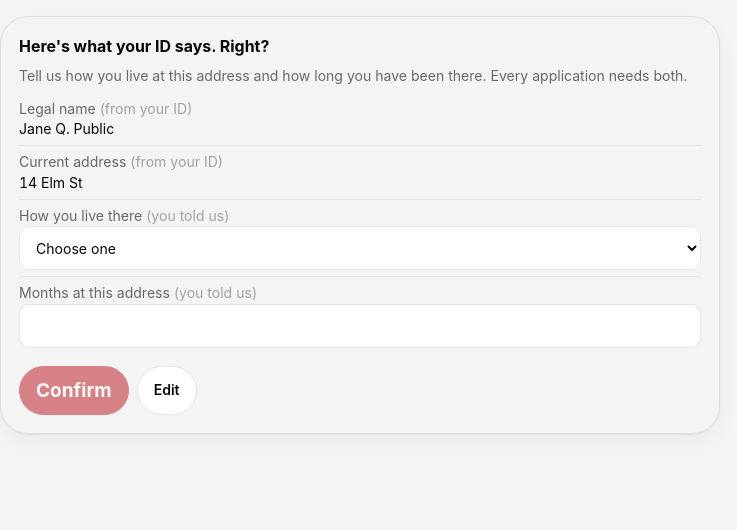
32.3 E5/C1 — ConfirmCard provenance (T5, T29) › 32.3 E5 / T5: the identity card asks how the borrower lives there (a select: I own it · I rent · Living rent-free) and the months at the address without an Edit
Later steps or results of the test are not shown.
expect the text with test id "confirm-helper" shows "Tell us how you live at this address and how long you have been there. Every application needs both.": met, box x1=19 y1=67 x2=687 y2=84
expect the button "Confirm" is disabled: met, box x1=19 y1=366 x2=129 y2=415
Select "I rent" in the dropdown named "How you live there" at [360, 248], box x1=19 y1=226 x2=701 y2=270
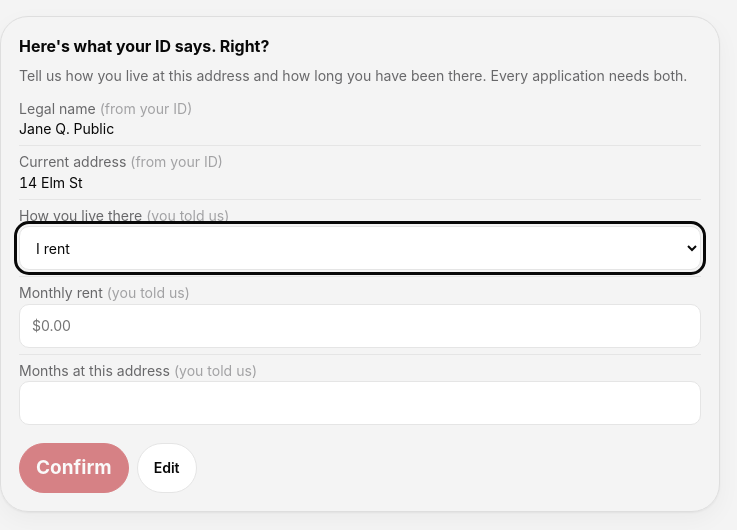
Type "2100" into the field named "Monthly rent" at [360, 326], box x1=19 y1=304 x2=701 y2=348
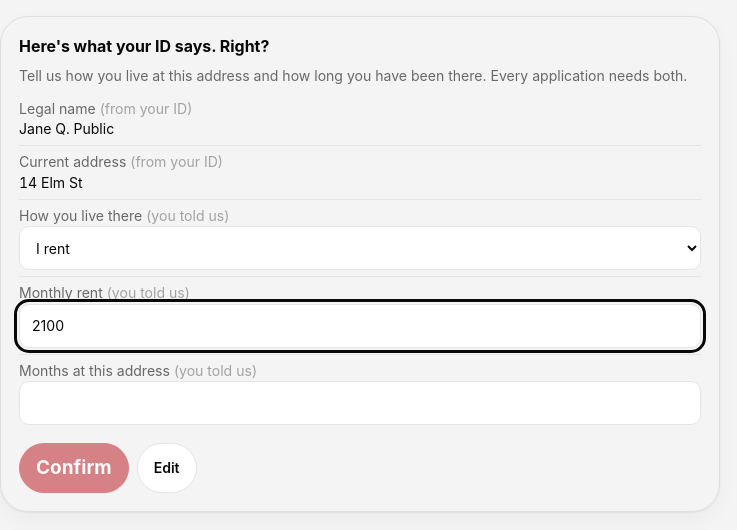
expect the button "Confirm" is disabled: met, box x1=19 y1=443 x2=129 y2=493
Type "14" into the field named "Months at this address" at [360, 403], box x1=19 y1=381 x2=701 y2=425
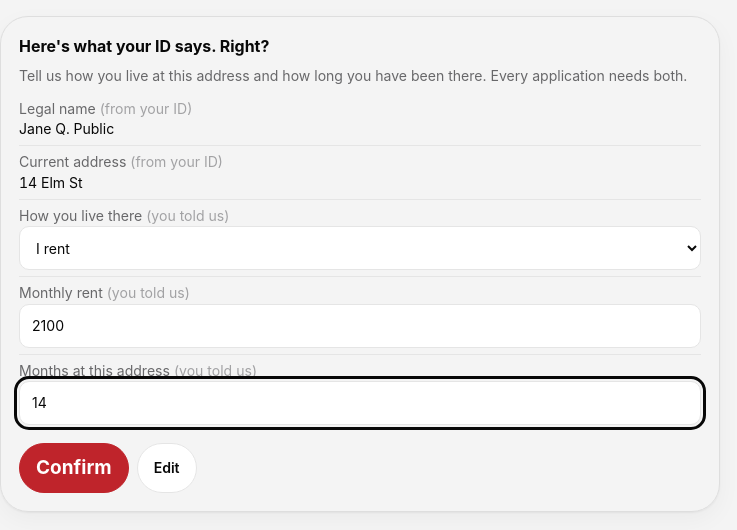
expect the button "Confirm" is enabled: met, box x1=19 y1=443 x2=129 y2=493
